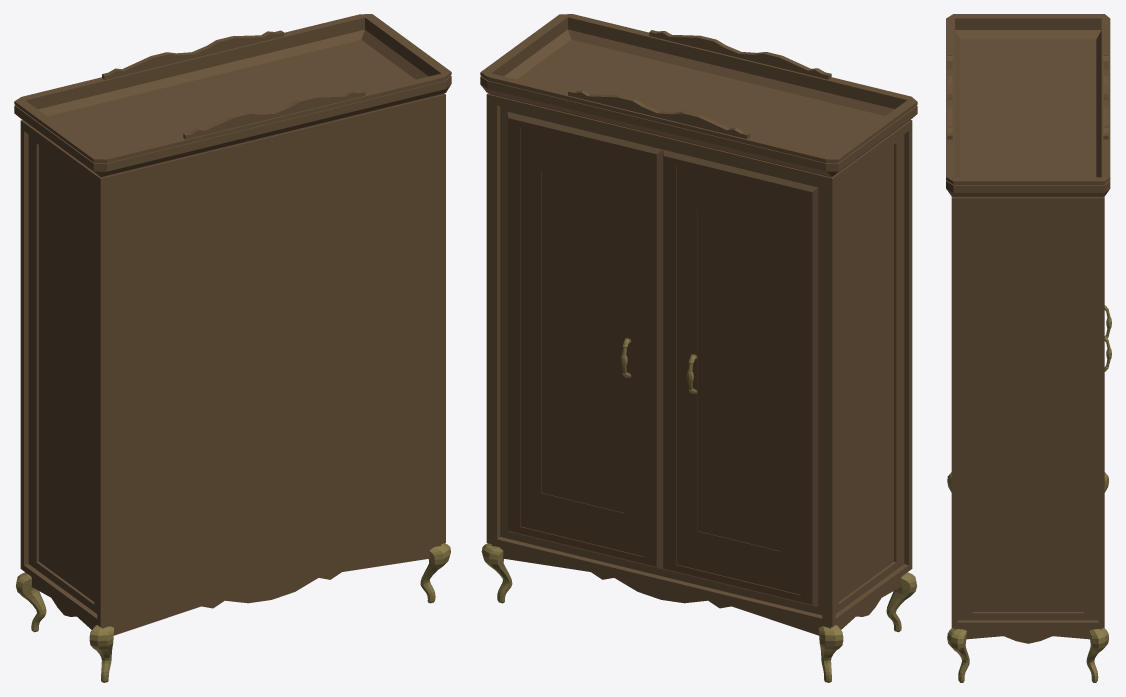
The model's file is wardrobe-eira.glb.
3 views of the same model, side by side, from view 1: azimuth 30°, elevation 25°; view 2: azimuth 150°, elevation 25°; view 3: azimuth 270°, elevation 25° (orthographic). The views are drawn at different scales.
Parts seen in each view (by area): view 1: Closet; view 2: Closet, Closet_LeftDoor, Closet_RightDoor; view 3: Closet.
Boxes of the visible parts, left/top/right/bottom form: Closet: left=14, top=14, right=451, bottom=682; Closet: left=480, top=14, right=917, bottom=682; Closet_LeftDoor: left=507, top=111, right=662, bottom=569; Closet_RightDoor: left=663, top=149, right=818, bottom=607; Closet: left=946, top=14, right=1110, bottom=682.
Size of the model in its own units: 1.4 by 2 by 0.5801.
